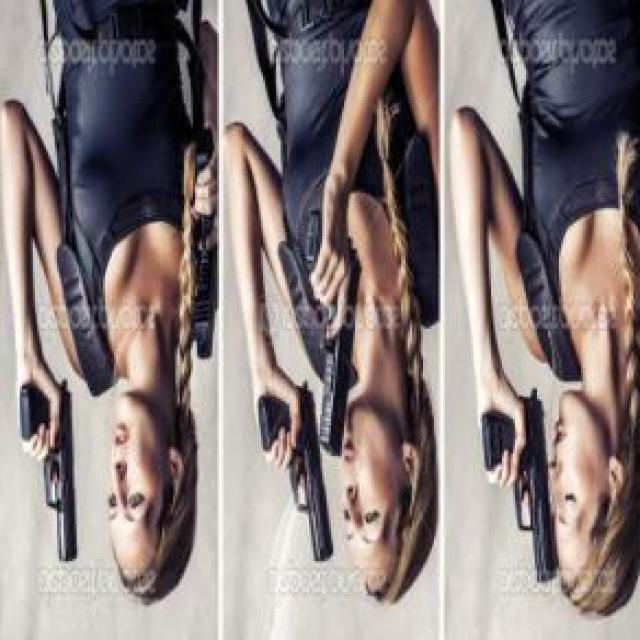pistol: (296, 208, 375, 465), (245, 387, 342, 570), (6, 358, 86, 576), (478, 394, 553, 576), (186, 169, 225, 388)
